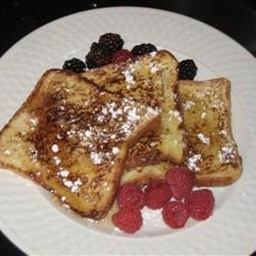background: (0, 12, 97, 94)
